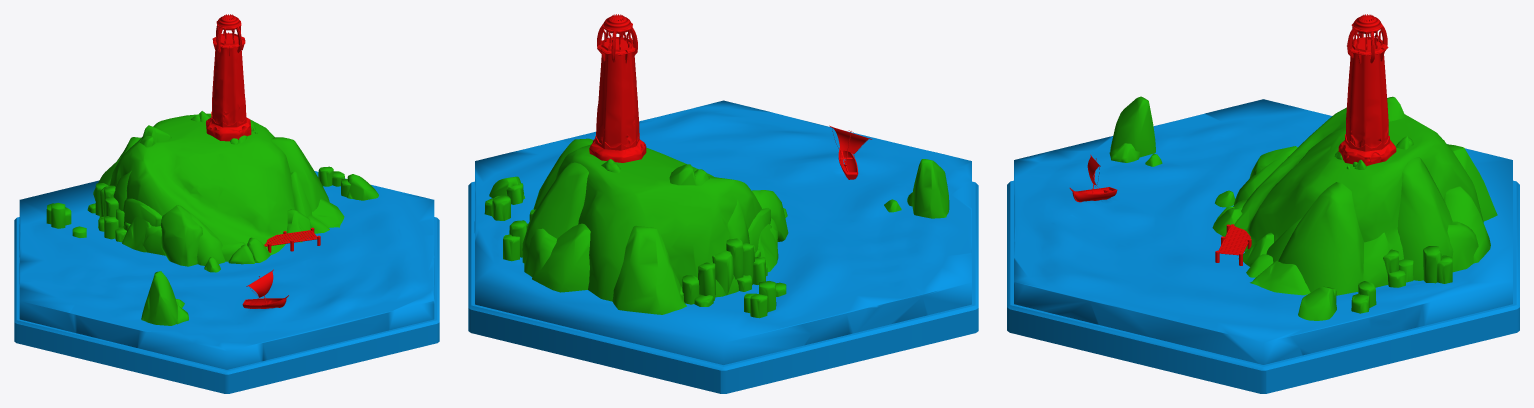
Rendered from OceanBase.fbx.
3 renders of one model, left to right at view 1: azimuth 30°, elevation 25°; view 2: azimuth 150°, elevation 25°; view 3: azimuth 270°, elevation 25°, orthographic. The views are drawn at different scales.
Parts seen in each view (by area): view 1: Water_low, MainHigh_low, Light_low, Dock_low, Boat_low; view 2: Water_low, MainHigh_low, Light_low, Sail_low, Boat_low; view 3: Water_low, MainHigh_low, Light_low, Dock_low, Boat_low.
Boxes of the visible parts, x1,y1,x2,y2 form: Water_low: (14, 171, 439, 393); MainHigh_low: (46, 111, 378, 325); Light_low: (206, 14, 251, 141); Dock_low: (264, 230, 317, 246); Boat_low: (242, 269, 288, 308); Water_low: (468, 100, 978, 393); MainHigh_low: (484, 138, 949, 318); Light_low: (589, 14, 646, 162); Sail_low: (833, 128, 868, 154); Boat_low: (829, 125, 871, 179); Water_low: (1007, 99, 1519, 393); MainHigh_low: (1109, 96, 1497, 320); Light_low: (1338, 14, 1396, 166); Dock_low: (1218, 224, 1250, 255); Boat_low: (1069, 154, 1117, 202).
Size of the model in its own units: 811 by 425 by 706.
